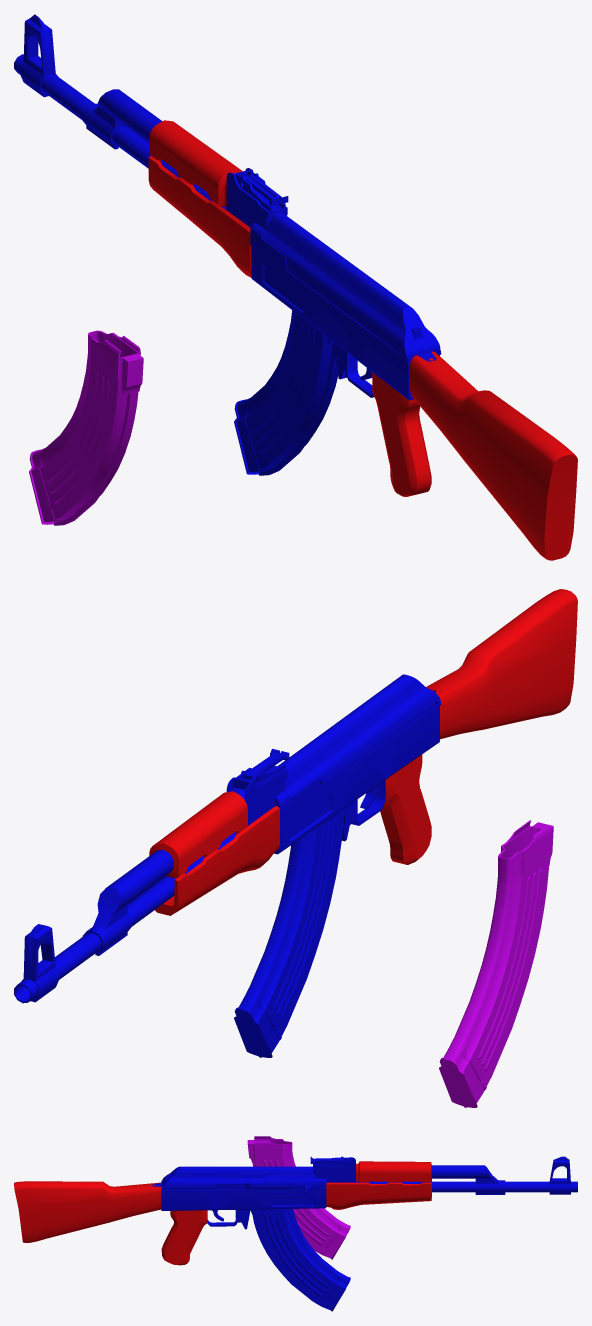
File: AKM_lowpoly.glb
The picture shows the model from 3 angles, top to bottom: view 1: azimuth 30°, elevation 25°; view 2: azimuth 150°, elevation 25°; view 3: azimuth 270°, elevation 25°; orthographic projection. The views are drawn at different scales.
Parts seen in each view (by area): view 1: Stock, Magazin Copy, Magazin, Dust Cover, Receiver, Pistol Grip, Forend, Upper Handguard, Gas Tube, Barrel, Rear Sight Block, Front Sight Block; view 2: Magazin Copy, Stock, Magazin, Receiver, Dust Cover, Forend, Upper Handguard, Pistol Grip, Gas Tube, Barrel, Rear Sight Block, Front Sight Block; view 3: Stock, Magazin, Receiver, Magazin Copy, Forend, Dust Cover, Pistol Grip, Upper Handguard, Gas Tube, Barrel, Bolt Carrier, Rear Sight Block (+1 smaller).
Part boxes in pixels (x1=…): Stock: x1=409, y1=351, x2=577, y2=560; Magazin Copy: x1=29, y1=330, x2=143, y2=525; Magazin: x1=234, y1=310, x2=338, y2=475; Dust Cover: x1=261, y1=211, x2=440, y2=359; Receiver: x1=250, y1=222, x2=441, y2=400; Pistol Grip: x1=372, y1=372, x2=431, y2=496; Forend: x1=148, y1=156, x2=251, y2=277; Upper Handguard: x1=149, y1=120, x2=242, y2=207; Gas Tube: x1=82, y1=89, x2=162, y2=149; Barrel: x1=14, y1=54, x2=226, y2=209; Rear Sight Block: x1=226, y1=168, x2=287, y2=229; Front Sight Block: x1=20, y1=14, x2=58, y2=97; Magazin Copy: x1=439, y1=820, x2=553, y2=1107; Stock: x1=426, y1=589, x2=577, y2=739; Magazin: x1=234, y1=807, x2=345, y2=1057; Receiver: x1=274, y1=690, x2=441, y2=854; Dust Cover: x1=277, y1=674, x2=440, y2=796; Forend: x1=155, y1=806, x2=279, y2=915; Upper Handguard: x1=149, y1=791, x2=247, y2=878; Pistol Grip: x1=380, y1=754, x2=431, y2=864; Gas Tube: x1=82, y1=850, x2=173, y2=955; Barrel: x1=14, y1=832, x2=236, y2=1003; Rear Sight Block: x1=226, y1=763, x2=287, y2=825; Front Sight Block: x1=21, y1=924, x2=59, y2=1002; Stock: x1=14, y1=1181, x2=161, y2=1242; Magazin: x1=249, y1=1209, x2=350, y2=1311; Receiver: x1=152, y1=1178, x2=326, y2=1226; Magazin Copy: x1=247, y1=1136, x2=350, y2=1259; Forend: x1=326, y1=1179, x2=431, y2=1209; Dust Cover: x1=162, y1=1166, x2=312, y2=1190; Pistol Grip: x1=161, y1=1210, x2=207, y2=1265; Upper Handguard: x1=356, y1=1161, x2=431, y2=1182; Gas Tube: x1=431, y1=1165, x2=505, y2=1194; Barrel: x1=356, y1=1181, x2=577, y2=1192; Bolt Carrier: x1=245, y1=1173, x2=315, y2=1193; Rear Sight Block: x1=313, y1=1156, x2=355, y2=1182.
Bounding box in the file's own units: 0.2315 × 0.2623 × 0.8727.
